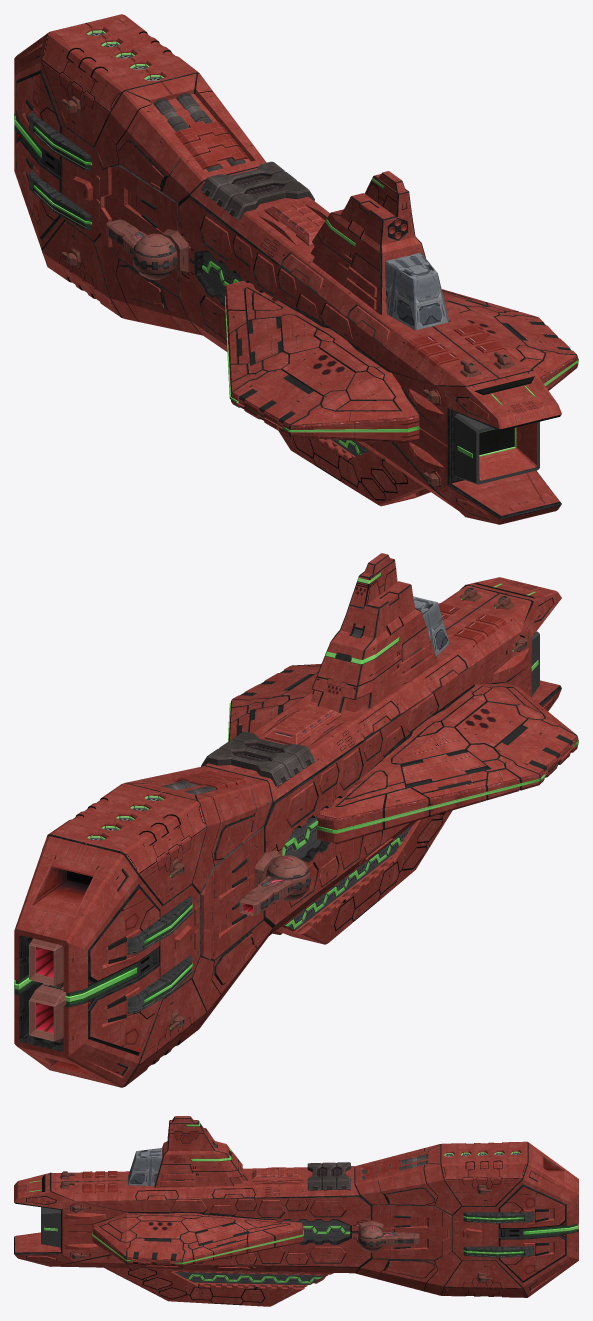
File: granby.glb
The picture shows the model from 3 angles, top to bottom: view 1: azimuth 30°, elevation 25°; view 2: azimuth 150°, elevation 25°; view 3: azimuth 270°, elevation 25°; orthographic projection. The views are drawn at different scales.
Visible parts, largest first — view 1: detail0, rearpanel, generator01, weapon01, turret03-base, mounts, turret03-arms; view 2: detail0, generator01, turret02, turret01, turret03-arms, turret03-base, weapon01, rearpanel, mounts; view 3: detail0, generator01, rearpanel, weapon01, turret04-base, turret04-arms, mounts.
Boxes of the visible parts, x1,y1,x2,y2 form: detail0: (14,14,578,524); rearpanel: (385,252,449,330); generator01: (201,161,314,219); weapon01: (153,93,248,171); turret03-base: (132,233,177,279); mounts: (71,95,514,376); turret03-arms: (106,219,146,256); detail0: (14,553,578,1087); generator01: (201,731,314,786); turret02: (29,983,66,1042); turret01: (29,938,63,986); turret03-arms: (239,876,292,915); turret03-base: (266,855,311,901); weapon01: (161,770,246,795); rearpanel: (413,596,449,656); mounts: (170,593,514,1030); detail0: (14,1116,578,1306); generator01: (307,1162,350,1190); rearpanel: (128,1148,162,1186); weapon01: (361,1154,428,1179); turret04-base: (358,1225,383,1252); turret04-arms: (380,1232,419,1245); mounts: (60,1176,487,1282).
Size of the model in its own units: 24.17 by 24.13 by 66.01.
10 materials, 10 textured.
